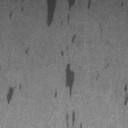red iron: (54, 34, 77, 98), (46, 0, 92, 28), (7, 83, 22, 104), (66, 110, 82, 128), (8, 6, 24, 20), (124, 84, 128, 106), (25, 46, 30, 56), (96, 73, 100, 80), (120, 2, 124, 7)
